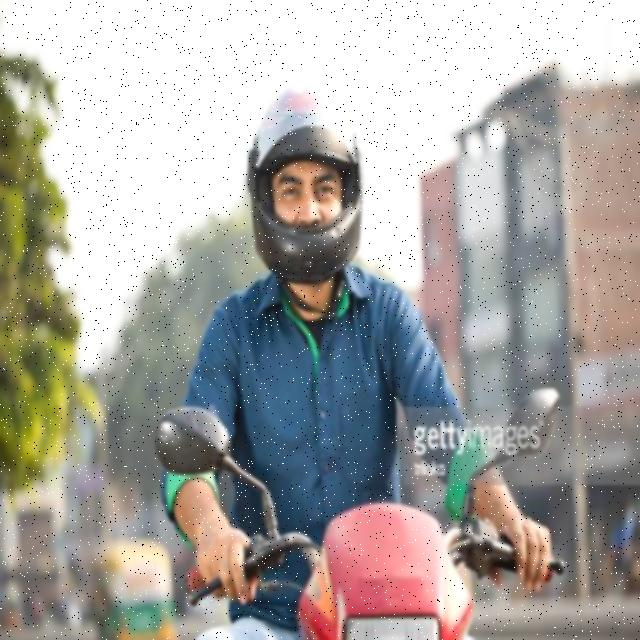not_triplets: (129, 66, 556, 640)
with-helmet: (243, 77, 368, 290)
